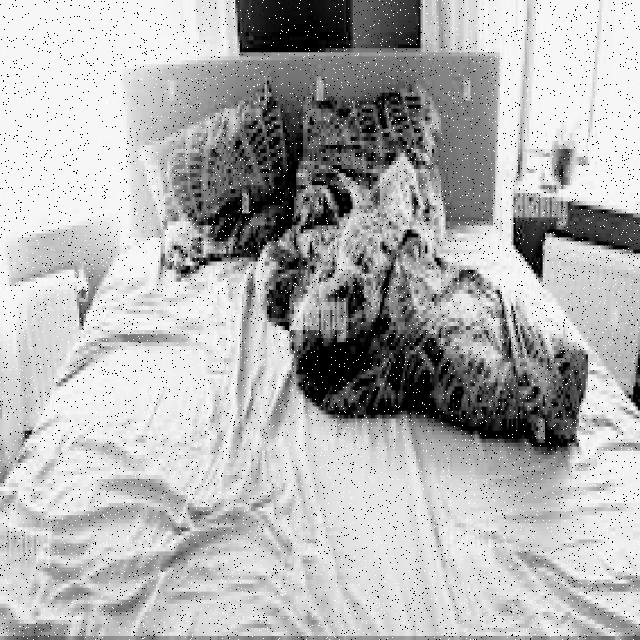bed: (28, 100, 630, 640)
